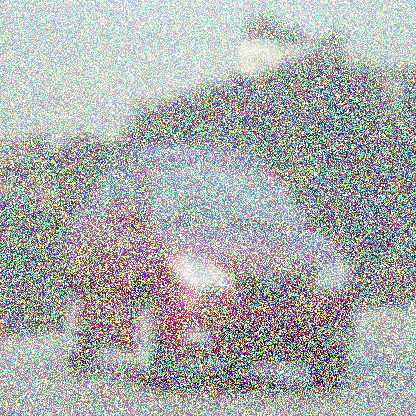Vehicle: (62, 147, 352, 391)
